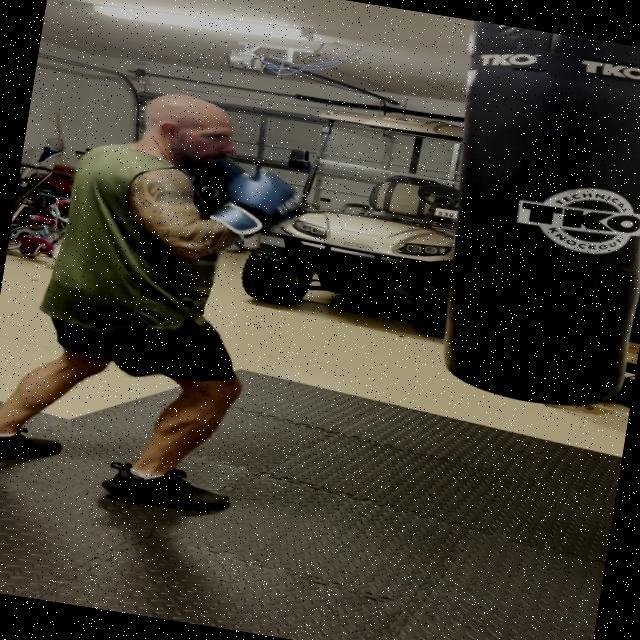bag: (403, 18, 640, 419)
